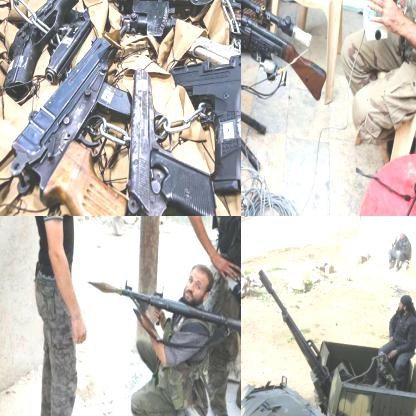pistol: (11, 35, 126, 199), (123, 69, 217, 215), (167, 43, 240, 196), (3, 0, 86, 96), (36, 8, 93, 82), (221, 9, 240, 52)
rifle: (0, 0, 240, 50), (84, 276, 240, 342), (241, 0, 327, 103)
